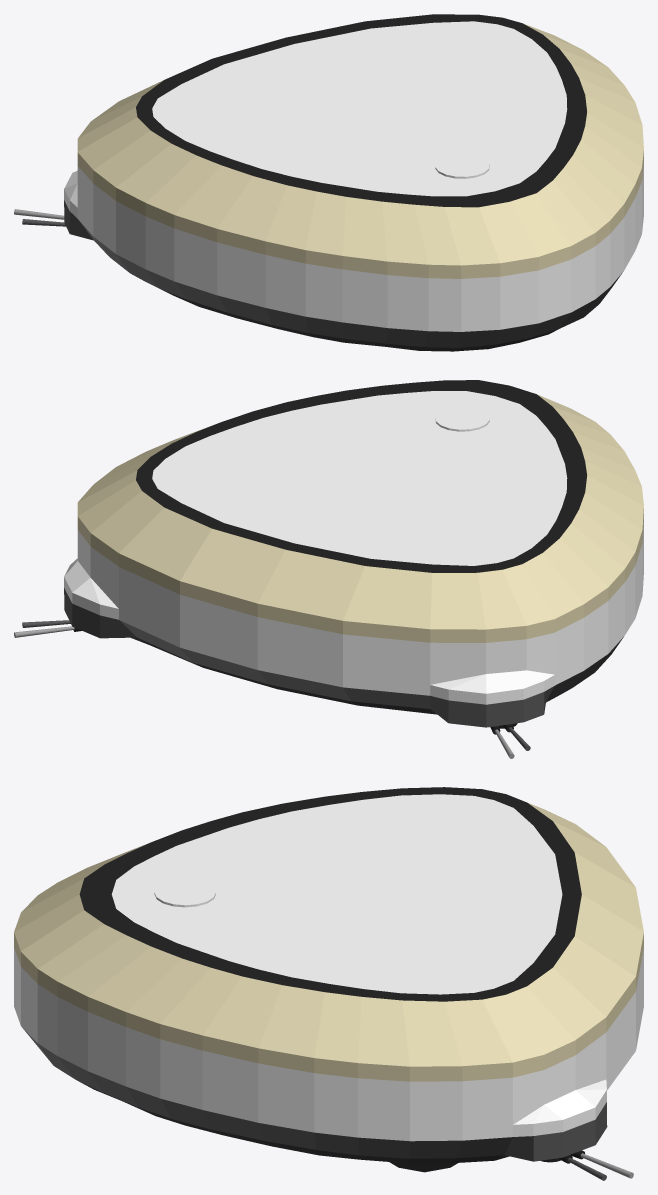
3 views of the same model, one above another, from view 1: azimuth 30°, elevation 25°; view 2: azimuth 150°, elevation 25°; view 3: azimuth 270°, elevation 25° (orthographic). The views are drawn at different scales.
Parts seen in each view (by area): view 1: Body, Metal, Brush_L; view 2: Body, Metal, Brush_R; view 3: Body, Metal, Brush_R.
Part boxes in pixels (bbox=[...]): Body: bbox=[64, 14, 643, 351]; Metal: bbox=[435, 153, 489, 178]; Brush_L: bbox=[14, 209, 65, 226]; Body: bbox=[64, 380, 643, 727]; Metal: bbox=[435, 406, 489, 431]; Brush_R: bbox=[14, 620, 81, 637]; Body: bbox=[14, 787, 643, 1163]; Metal: bbox=[154, 879, 215, 907]; Brush_R: bbox=[540, 1150, 633, 1180].
Bounding box in the file's own units: 0.339 × 0.0928 × 0.3248.
